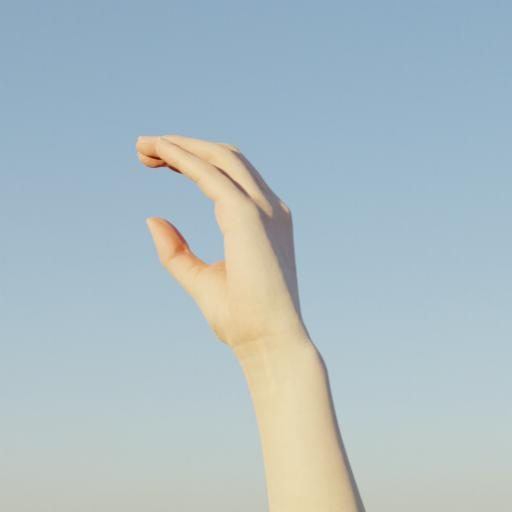C: (135, 126, 314, 352)
